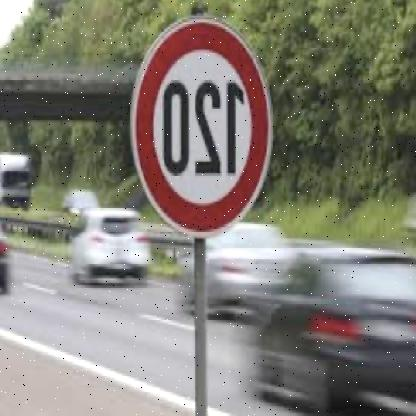speedlimit: (131, 13, 275, 237)
